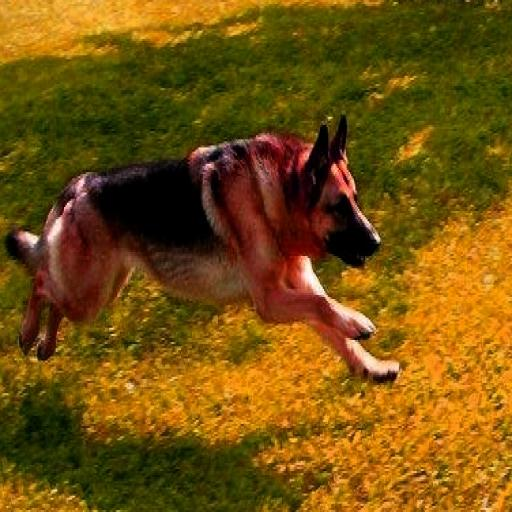dog_face: (304, 108, 381, 274)
